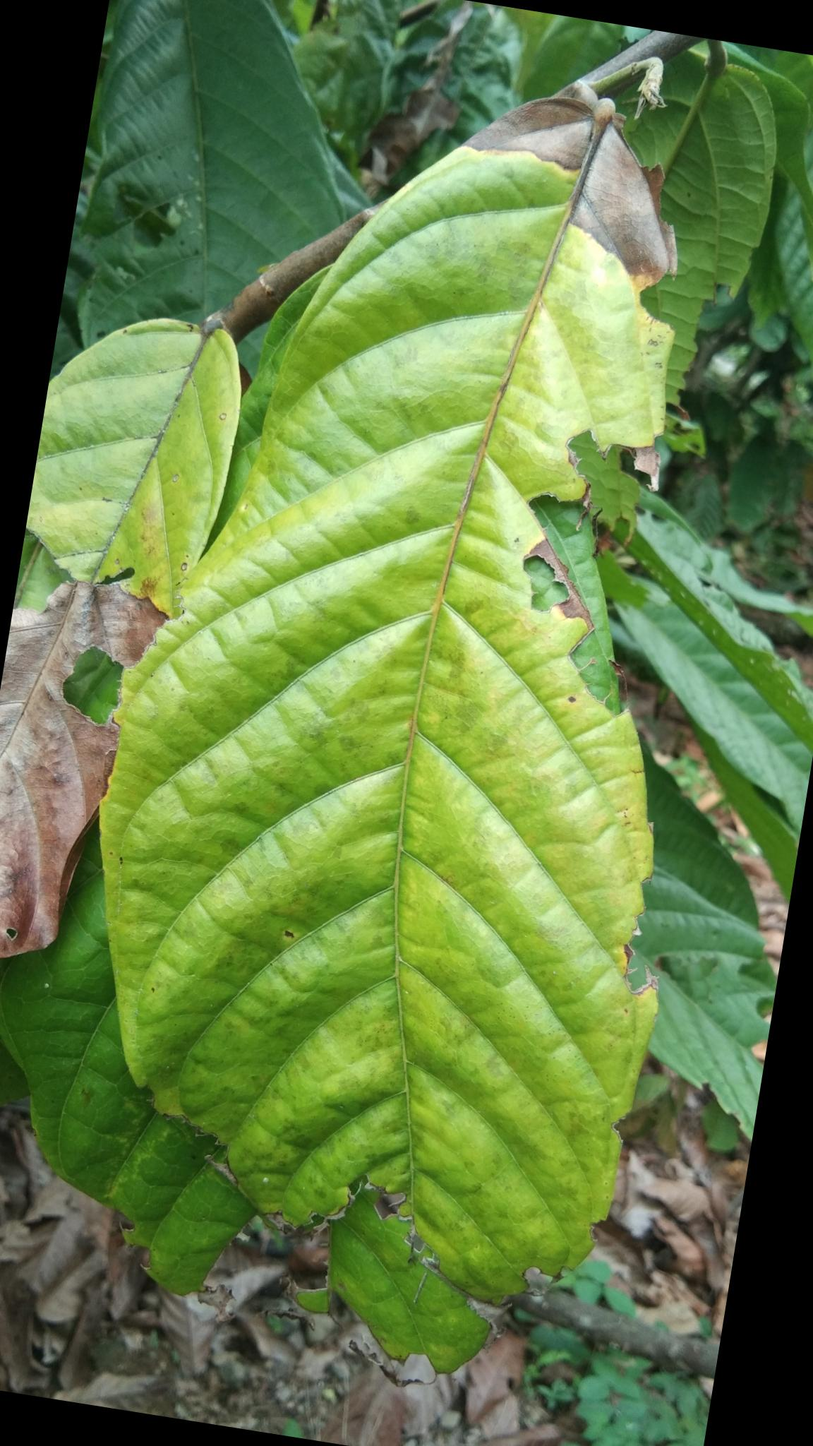Fosforo: (99, 86, 675, 1307)
